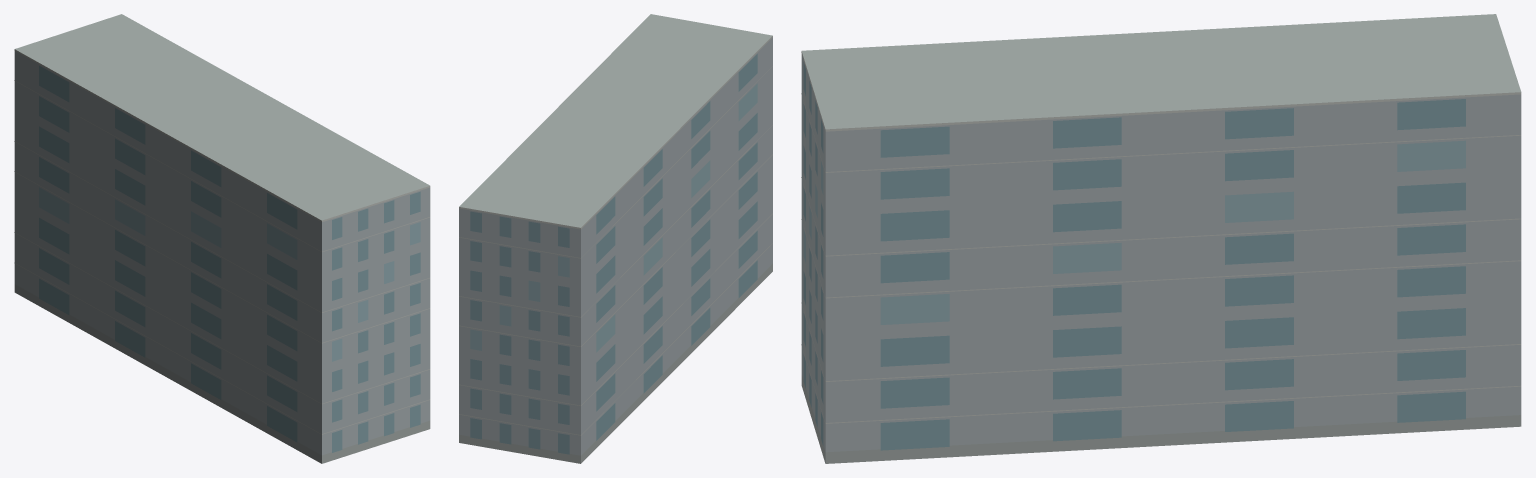
File: survey-upis-32929449.glb
3 views of the same model, side by side, from view 1: azimuth 30°, elevation 25°; view 2: azimuth 150°, elevation 25°; view 3: azimuth 270°, elevation 25° (orthographic). The views are drawn at different scales.
Parts seen in each view (by area): view 1: survey-upis-32929449.tmp; view 2: survey-upis-32929449.tmp; view 3: survey-upis-32929449.tmp.
Boxes of the visible parts, x1,y1,x2,y2 form: survey-upis-32929449.tmp: (14,14,430,463); survey-upis-32929449.tmp: (459,14,772,463); survey-upis-32929449.tmp: (801,14,1521,463).
Size of the model in its own units: 26.08 by 35.22 by 68.7.
